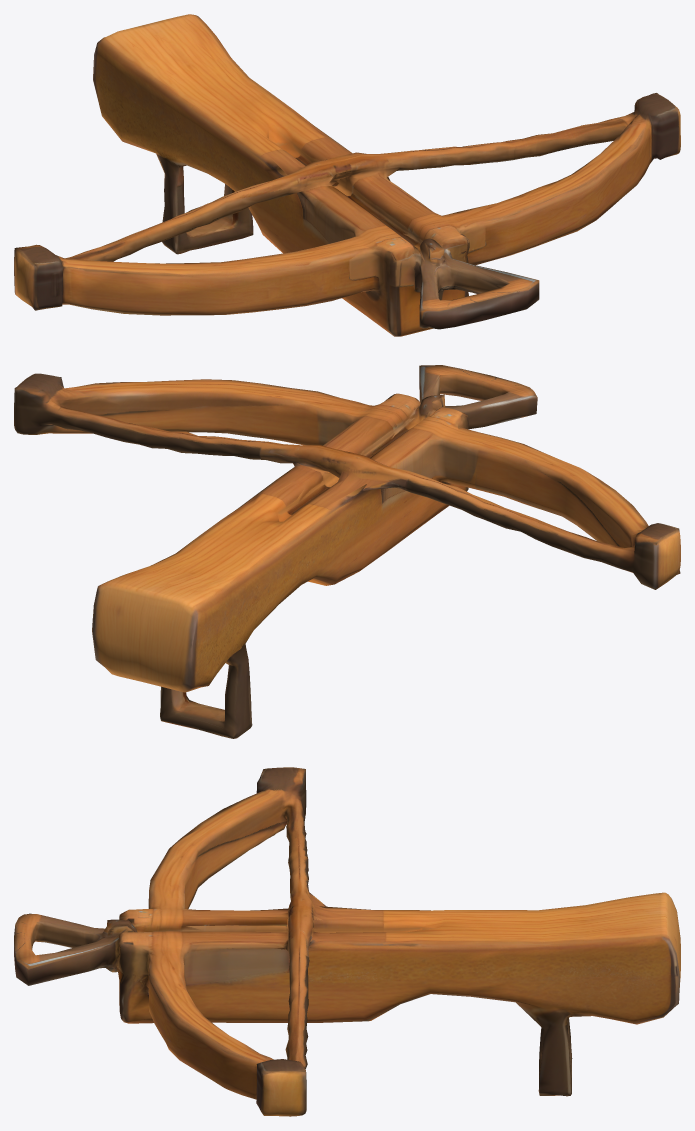
Rendered from crossbow.glb.
3 renders of one model, top to bottom at view 1: azimuth 30°, elevation 25°; view 2: azimuth 150°, elevation 25°; view 3: azimuth 270°, elevation 25°, orthographic. The views are drawn at different scales.
Size of the model in its own units: 2 by 0.5168 by 1.83.
1 material, 1 textured.
